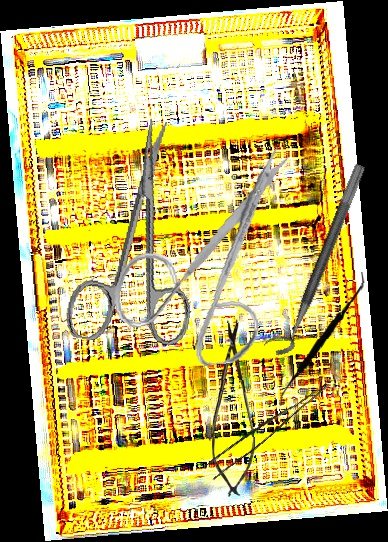Fixation Ring: (262, 157, 367, 360)
Iris Scissors: (97, 145, 317, 377), (62, 110, 224, 357)
Micro Scissor: (209, 318, 256, 499)
Spatula Surgical: (277, 267, 366, 411)
Tissue Forceps: (202, 369, 329, 485)
